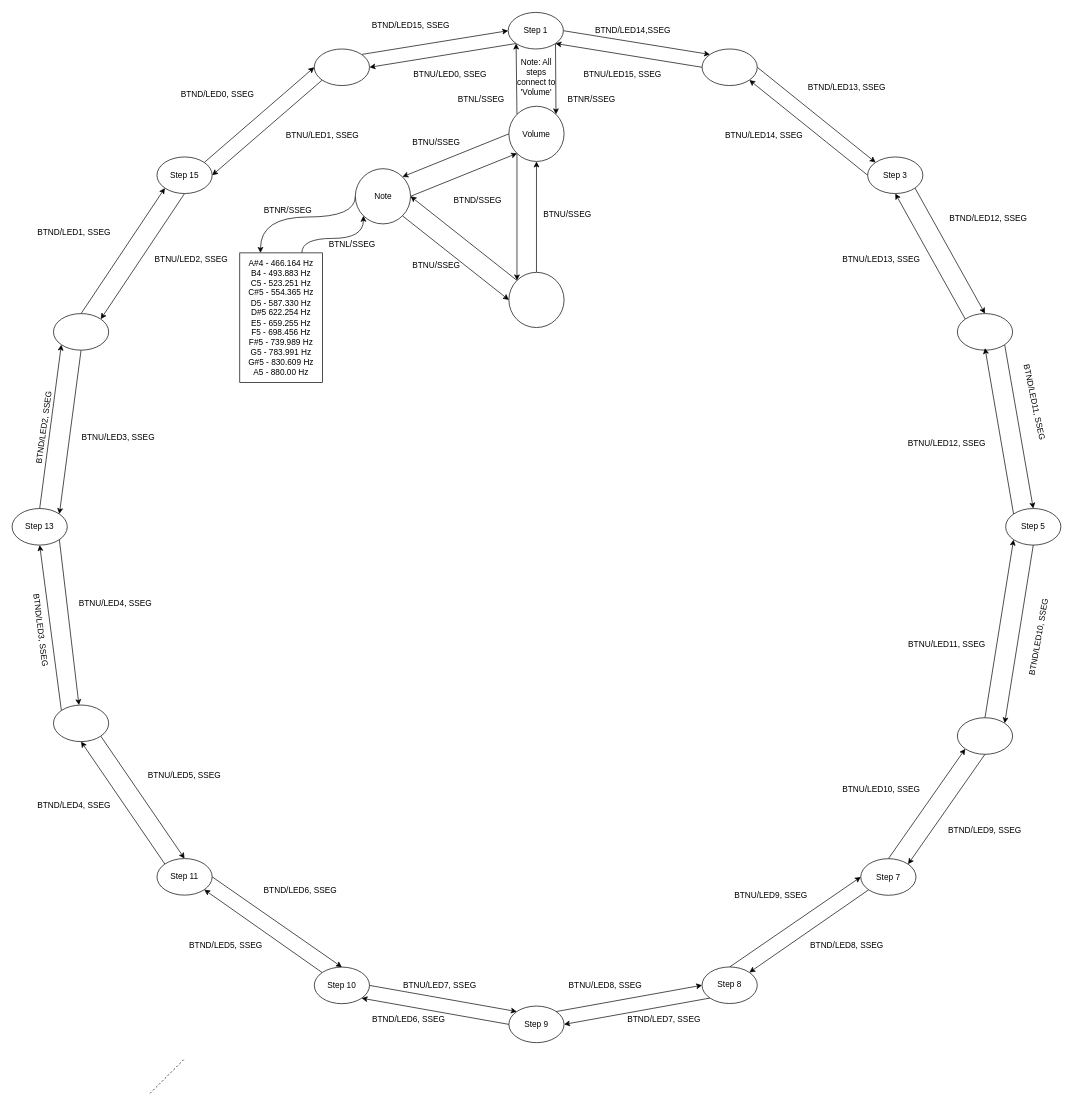
Image size: 1073x1106. Some labels were removed from this diagram. Each missing label, with the centre of its shape:
"ADSR" goes at [536,300].
"Step 12" goes at [81,723].
"Step 14" goes at [81,331].
"Step 16" goes at [341,67].
"Step 2" goes at [729,67].
"Step 4" goes at [985,331].
"Step 6" goes at [985,735].
